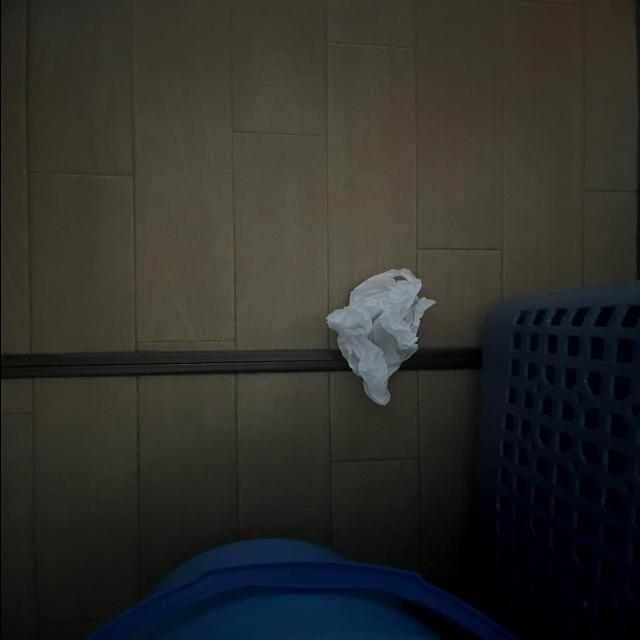Paper: (308, 247, 434, 399)
